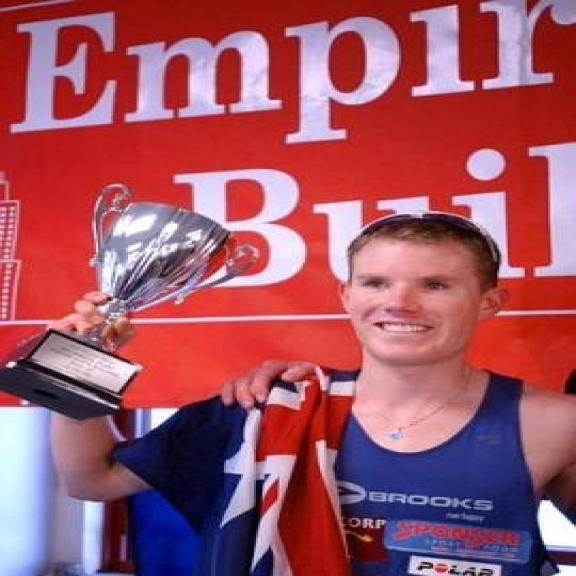face: (339, 230, 506, 364)
